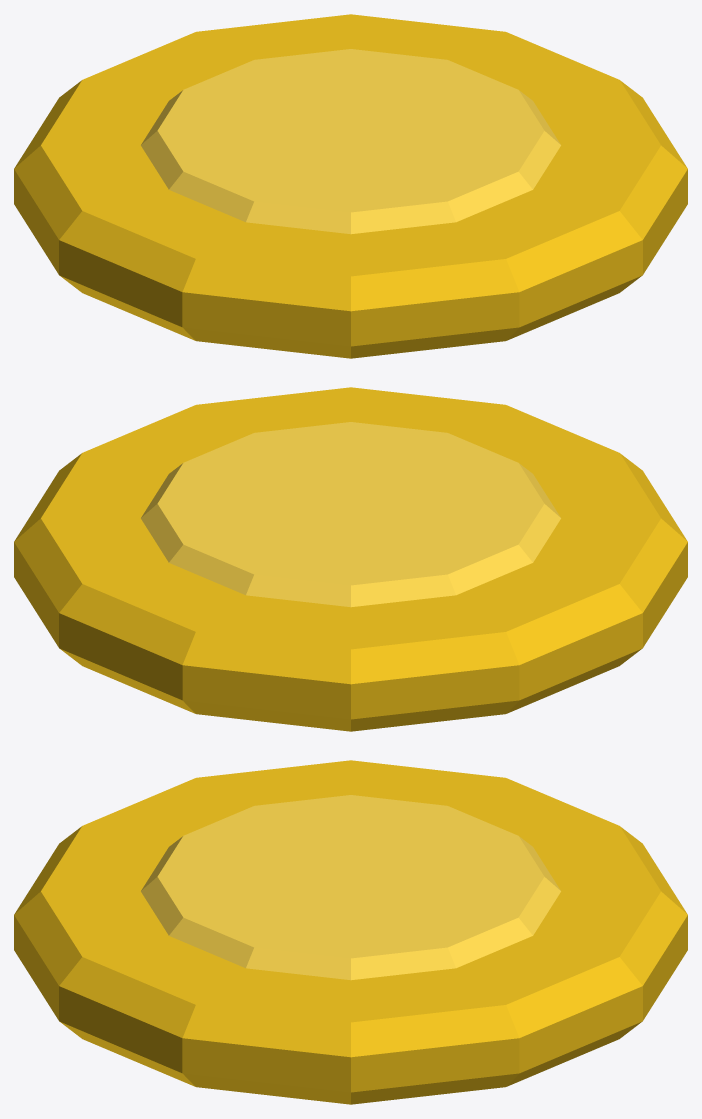
File: coin.glb
3 views of the same model, one above another, from view 1: azimuth 30°, elevation 25°; view 2: azimuth 150°, elevation 25°; view 3: azimuth 270°, elevation 25° (orthographic).
Visible parts, largest first — view 1: coin; view 2: coin; view 3: coin.
Boxes of the visible parts, <box> form: coin: <box>14,14,687,358</box>; coin: <box>14,387,687,731</box>; coin: <box>14,760,687,1104</box>.
Size of the model in its own units: 0.104 by 0.019 by 0.104.
